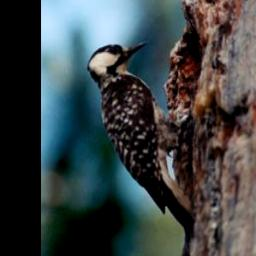Woodpecker: (74, 37, 202, 243)
